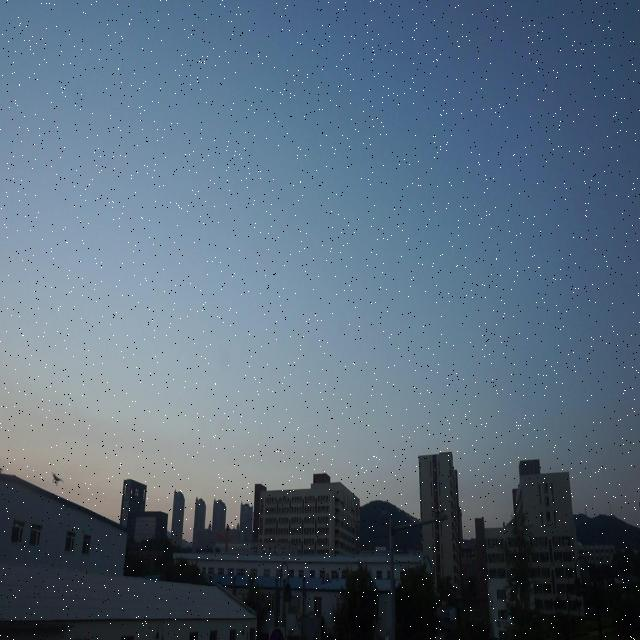UAV: (51, 472, 64, 486)
